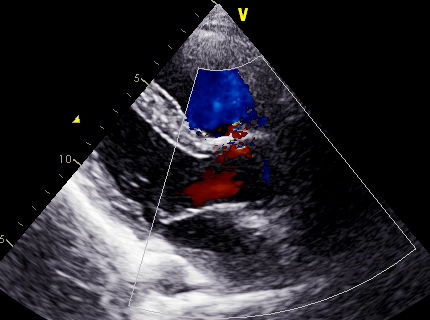AR: (184, 143, 264, 209)
